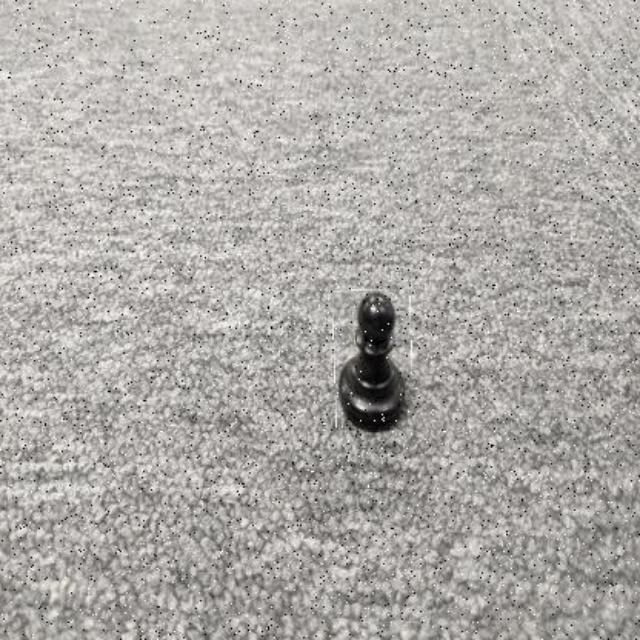black-pawn: (333, 290, 413, 431)
